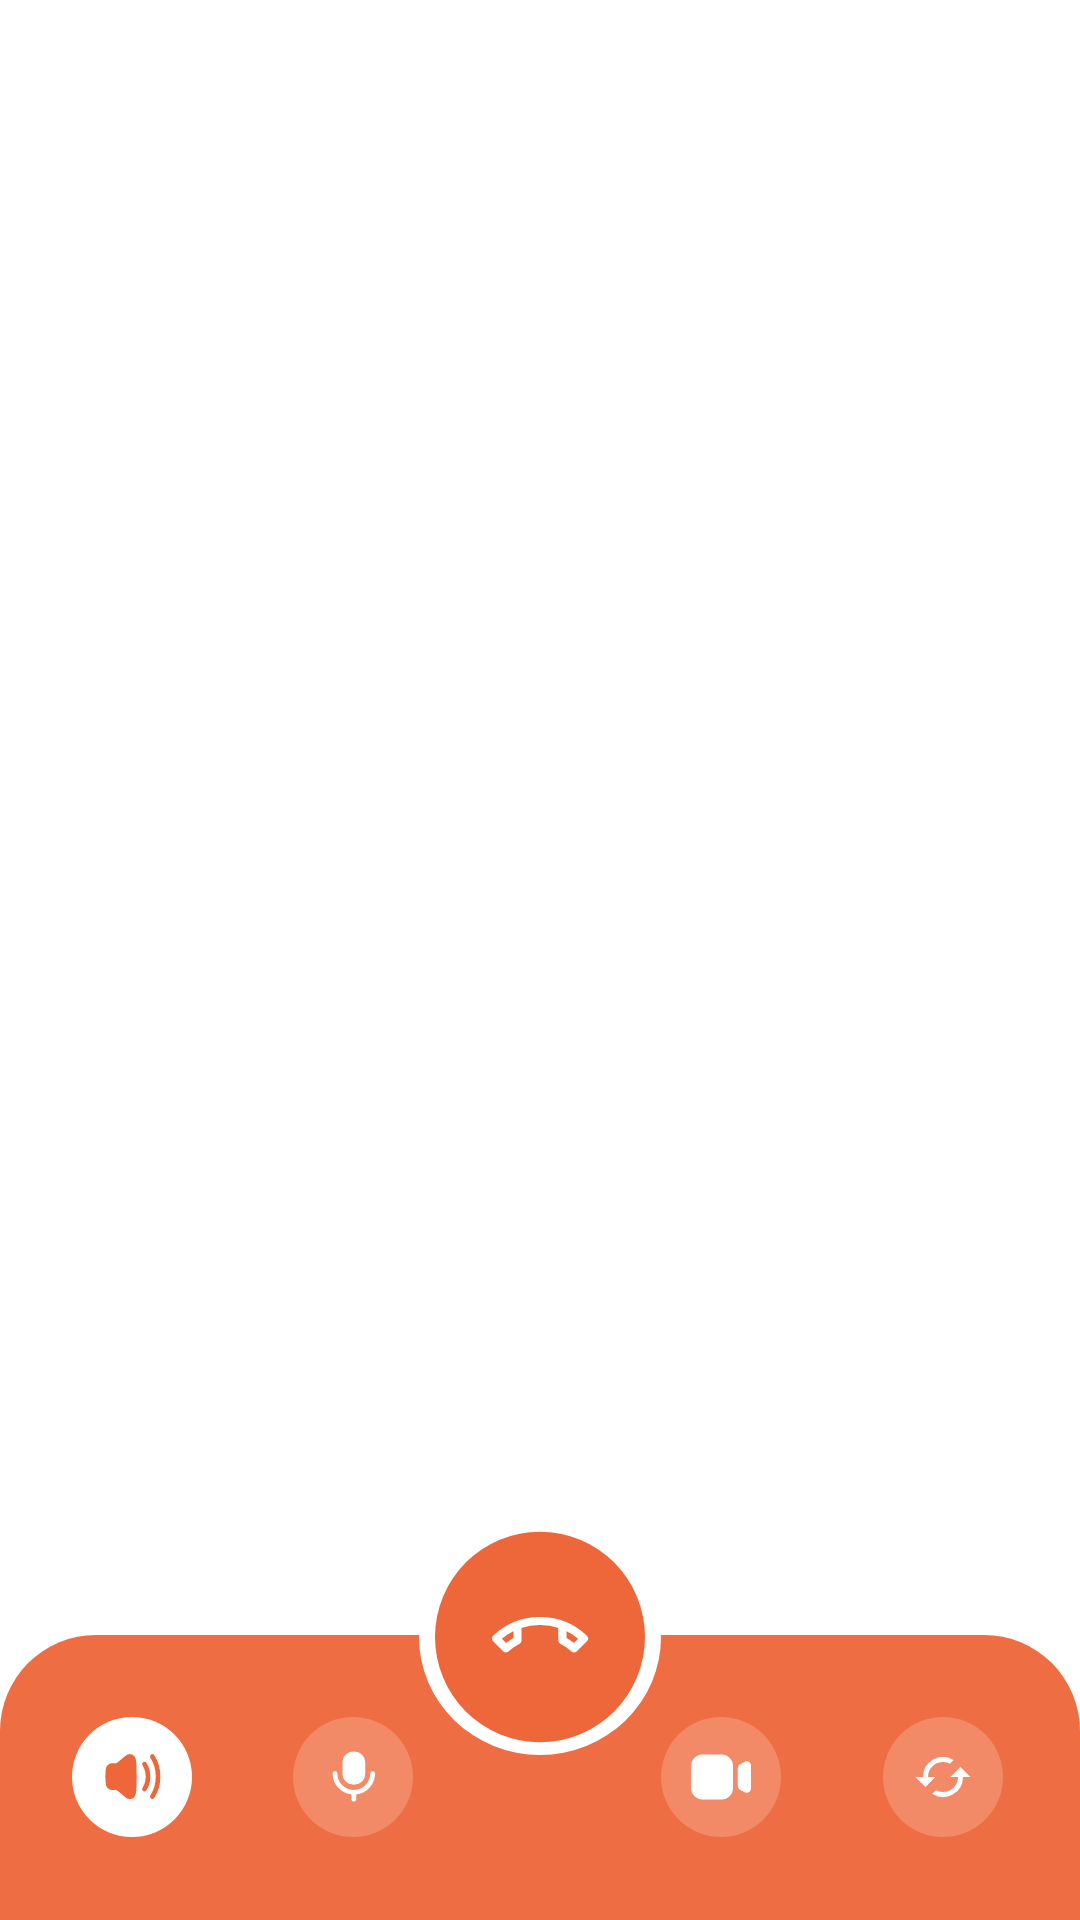

Where to tap for icons on this 1080 × 1920 app screen, as [x,y]:
call cut: [540,1637]
flip: [943,1777]
mike call: [353,1777]
speaker: [132,1777]
video call: [721,1777]
